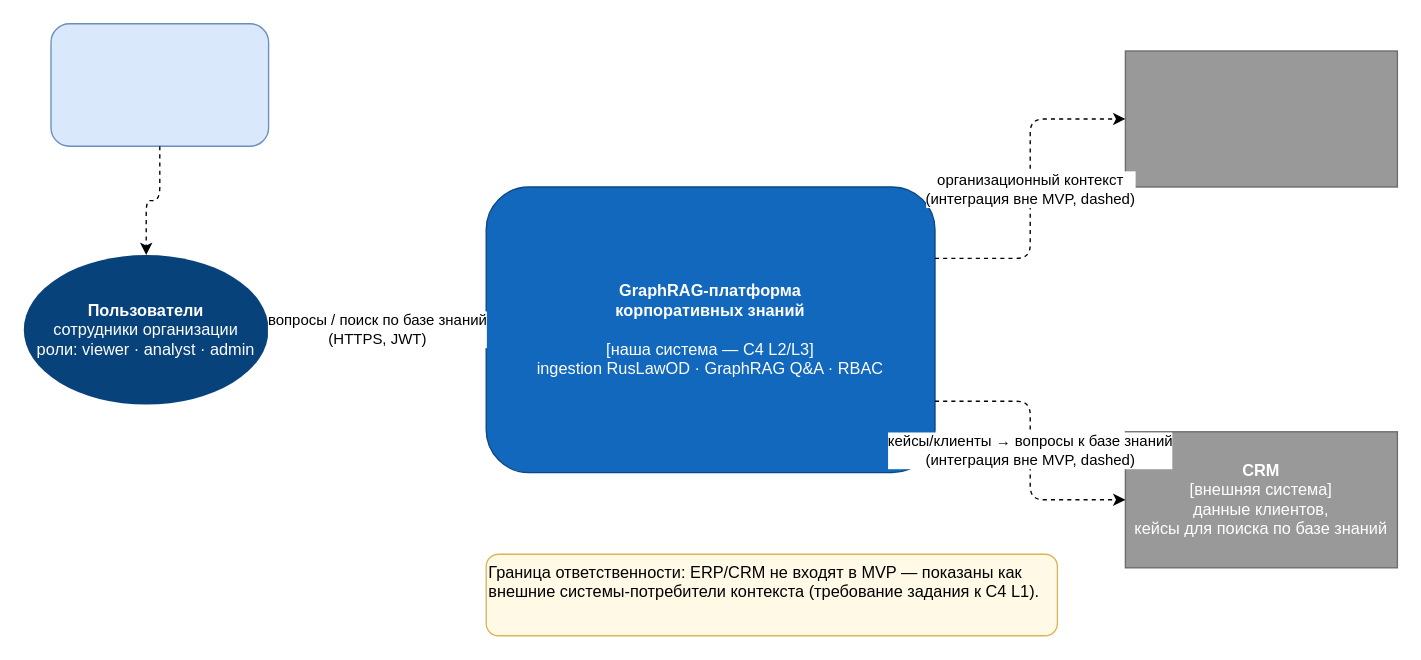
Image size: 1421x660. Some labels were removed from this diagram. Here are the shapes that lost their labels. From the top down, the centre of each, then its label:
At pixel 159 84: "User Channels веб-браузер (React SPA) HTTPS".
At pixel 1260 118: "ERP [внешняя система] организационный контекст, справочники подразделений".
